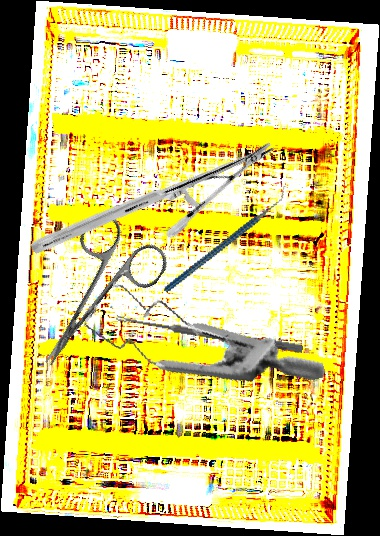Chopper: (144, 185, 307, 293)
Iris Scissors: (7, 206, 174, 389)
Needle Holder: (28, 65, 277, 331)
Speculum: (72, 229, 327, 431)
Surgical Spoon: (115, 314, 304, 353)
